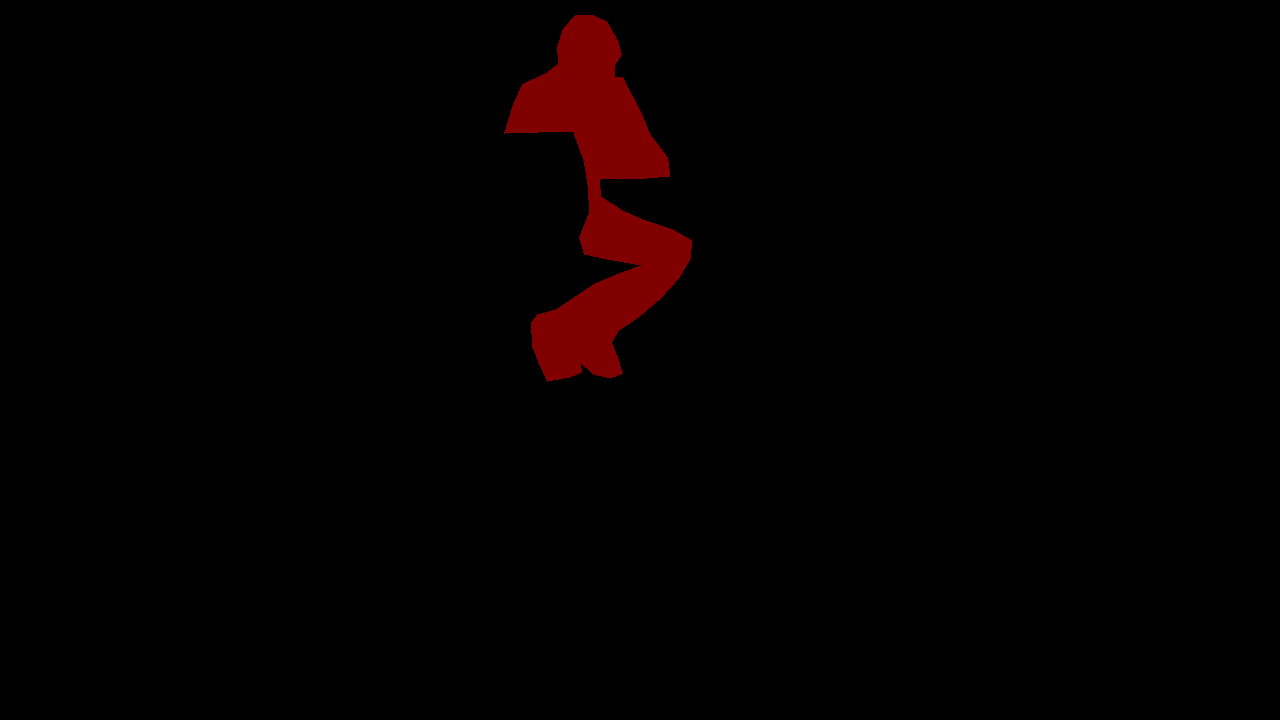person: (504, 15, 691, 381)
